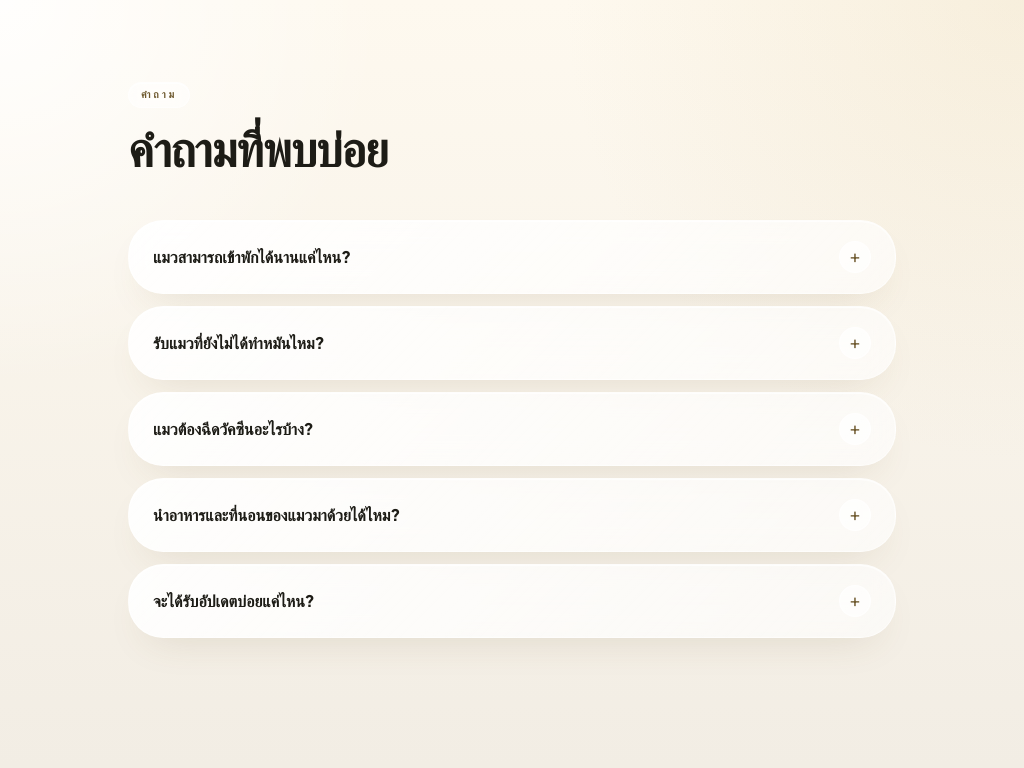
Scenario: FAQ › expands an answer when question clicked
Expected: the text "สามารถเข้าพักได้ตั้งแต่ 1 คืน" is not shown
What coordinates should you click on to do the following:
click the text "แมวสามารถเข้าพักได้นานแค่ไหน?"
I would click on:
 (252, 257)
Its box is [153, 245, 351, 269].
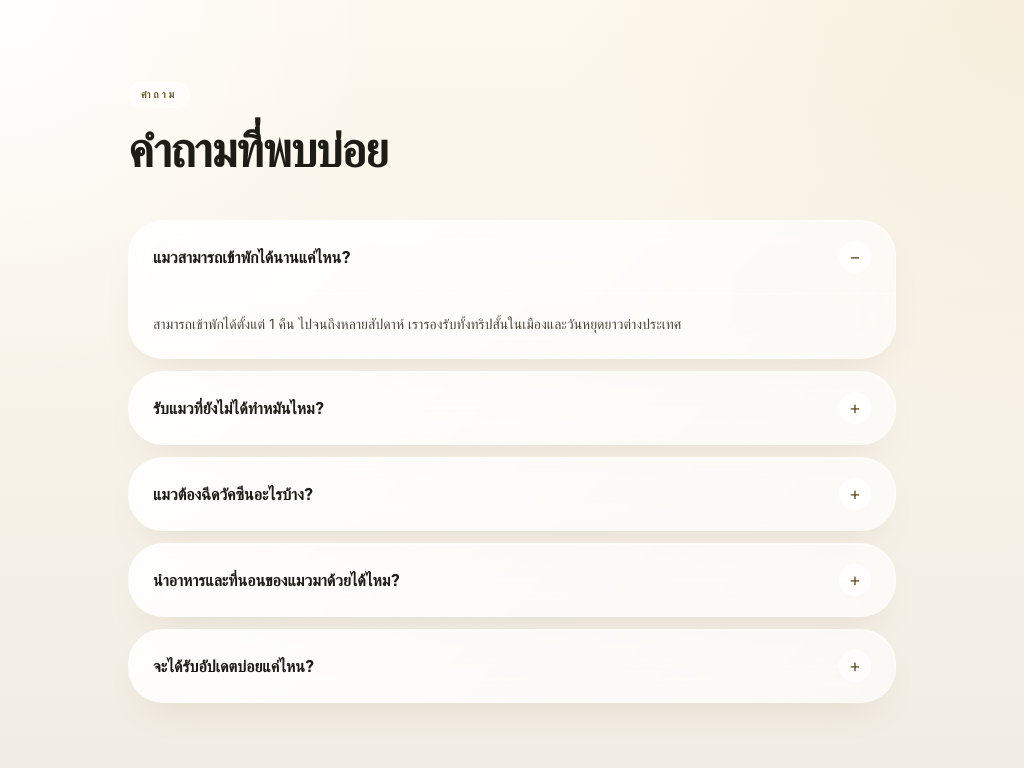
Now the text "สามารถเข้าพักได้ตั้งแต่ 1 คืน" is shown, box [153, 315, 682, 332]
